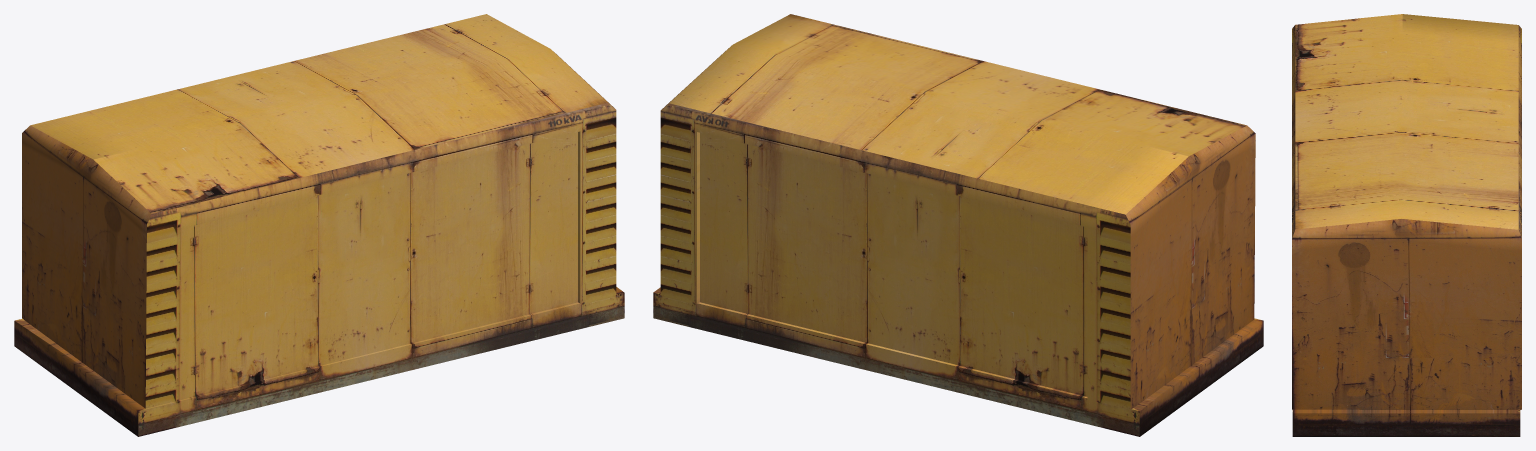
Rendered from waste_container.fbx.
3 renders of one model, left to right at view 1: azimuth 30°, elevation 25°; view 2: azimuth 150°, elevation 25°; view 3: azimuth 270°, elevation 25°, orthographic. The views are drawn at different scales.
Visible parts, largest first — view 1: U3DMesh; view 2: U3DMesh; view 3: U3DMesh.
Part boxes in pixels (left/top/right/bottom): U3DMesh: left=14, top=14, right=624, bottom=436; U3DMesh: left=653, top=14, right=1263, bottom=436; U3DMesh: left=1292, top=14, right=1521, bottom=436.
Size of the model in its own units: 179 by 80.79 by 79.55.
